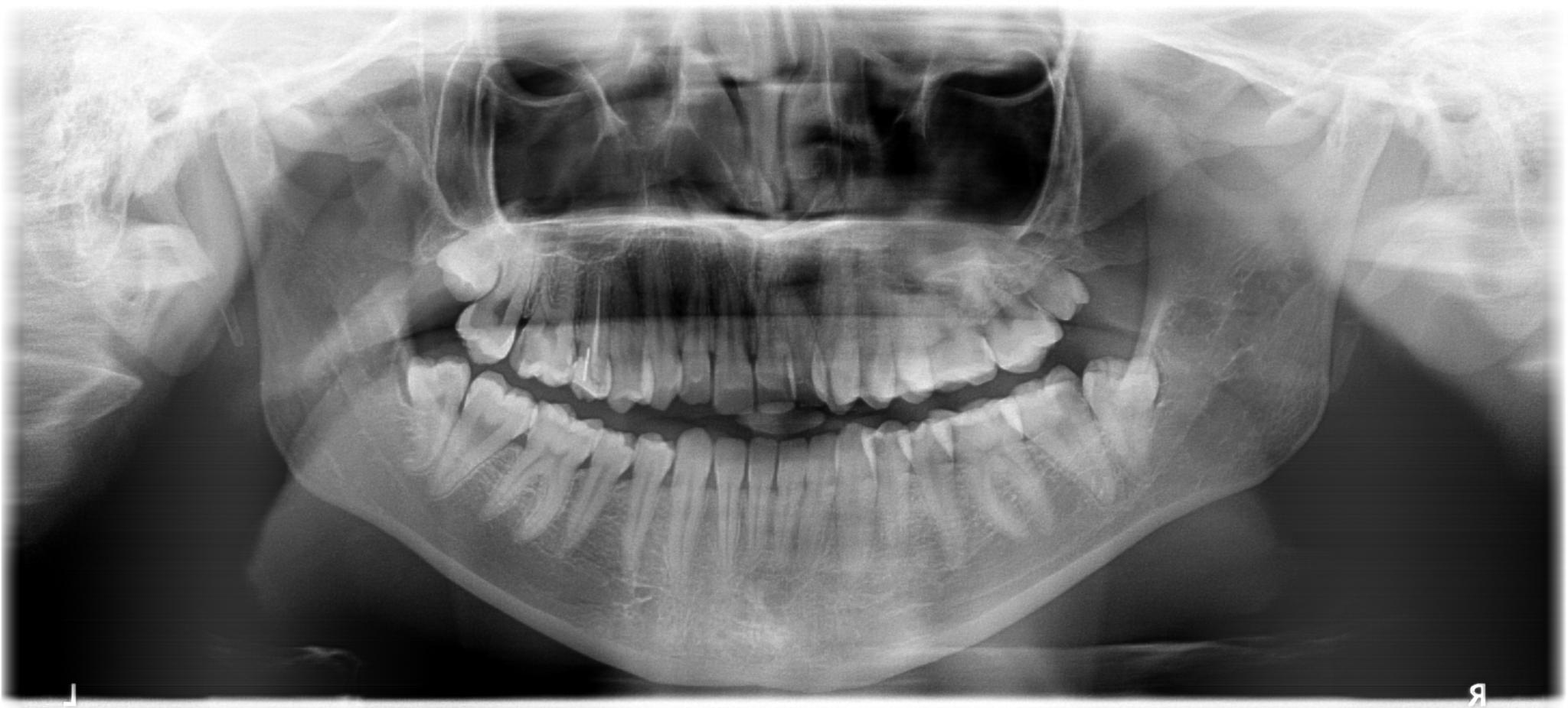Premolars: (521, 245, 1544, 646), (549, 200, 1568, 561), (464, 214, 1351, 624), (594, 198, 1568, 549), (568, 186, 1564, 460), (508, 189, 1454, 464), (565, 150, 1568, 396), (310, 207, 896, 618), (285, 204, 798, 583), (244, 191, 701, 539), (289, 200, 872, 464), (239, 154, 774, 368)
